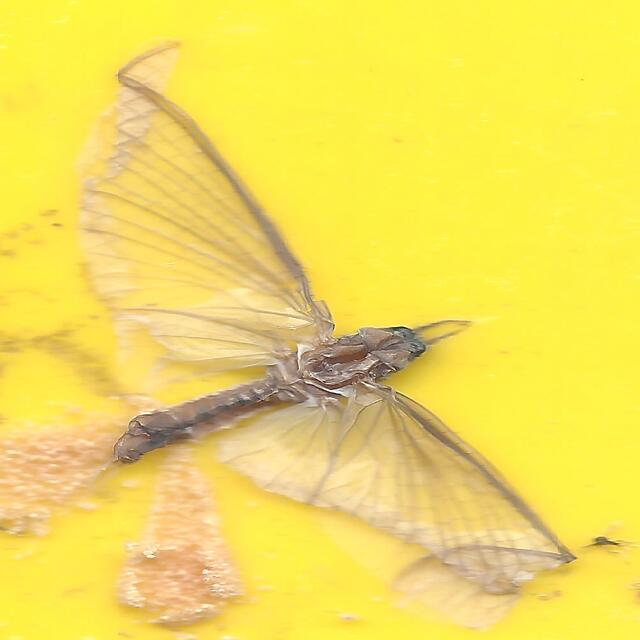Ephemeroptera: (64, 40, 576, 600)
